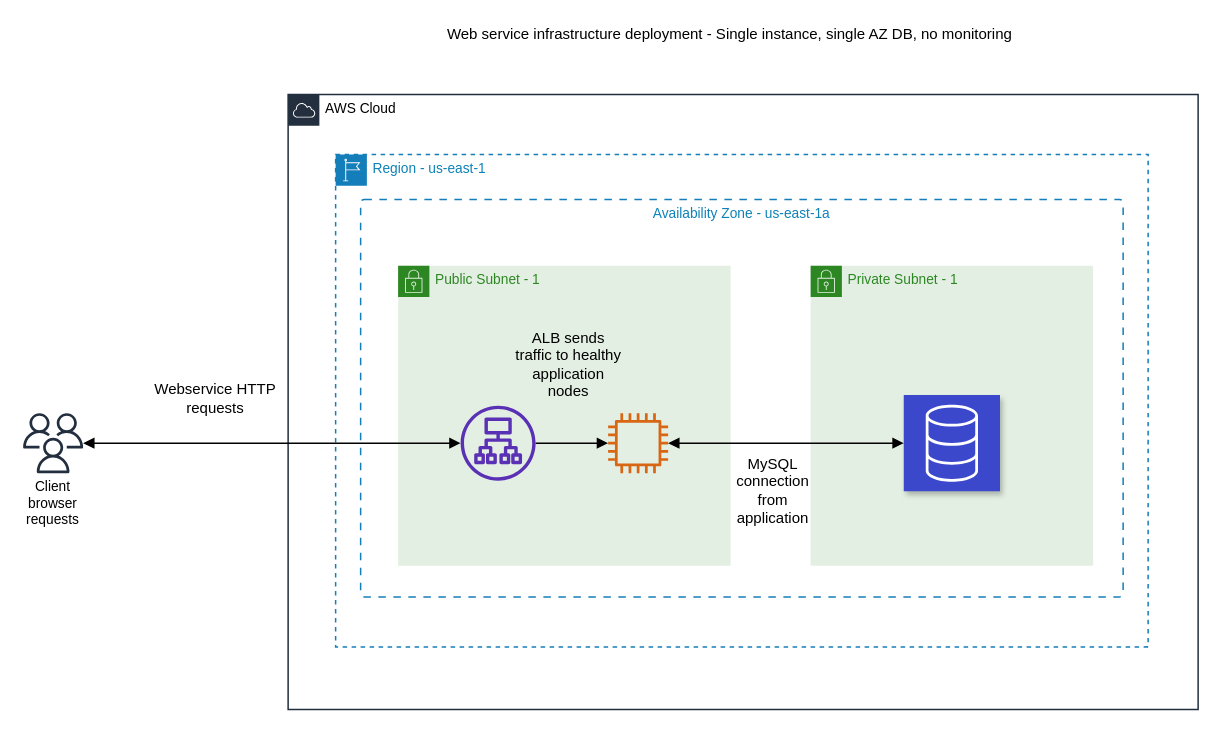
The diagram is 1220 pixels wide and 731 high, and some of its shapes have lost their labels. Each missing label, with the centre of its shape:
"Application Load Balancer" goes at pixel 497 442.
"Database - MySQL" goes at pixel 952 444.
"Web Service Instance" goes at pixel 637 442.
